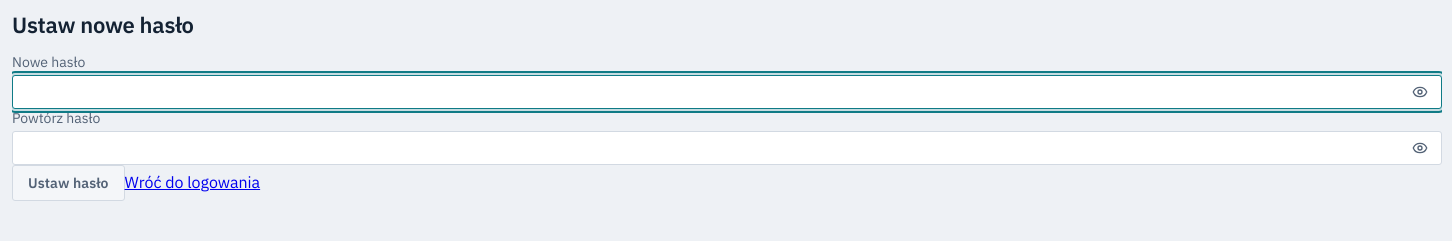
Scenario: ustawienie nowego hasła z linku › poprawne hasło — wysyła token i pokazuje sukces
The image size is (1452, 241).
Type "dlugiehaslo1" into the password field labelled "Nowe hasło".
click(727, 92); type("dlugiehaslo1")  # box [12,76,1442,110]
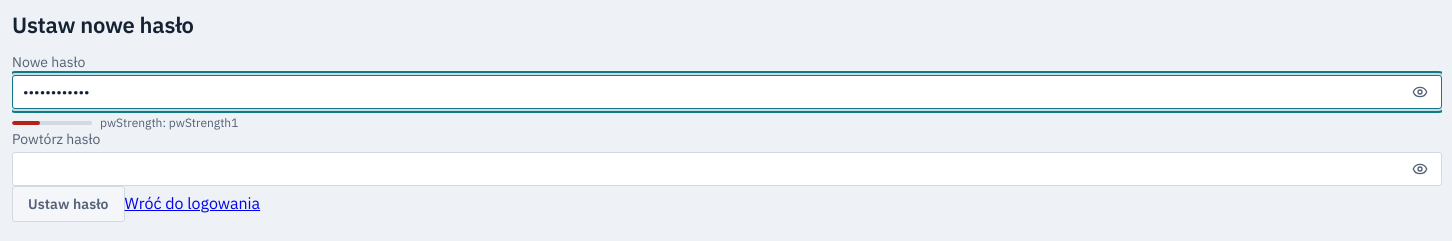
Type "dlugiehaslo1" into the password field labelled "Powtórz hasło".
click(727, 170); type("dlugiehaslo1")  # box [12,152,1442,186]
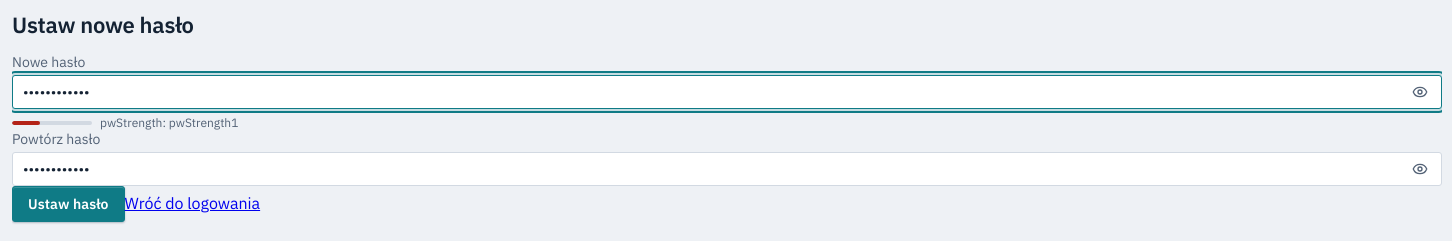
Click the button "Ustaw hasło".
click(68, 204)  # box [12,186,125,222]
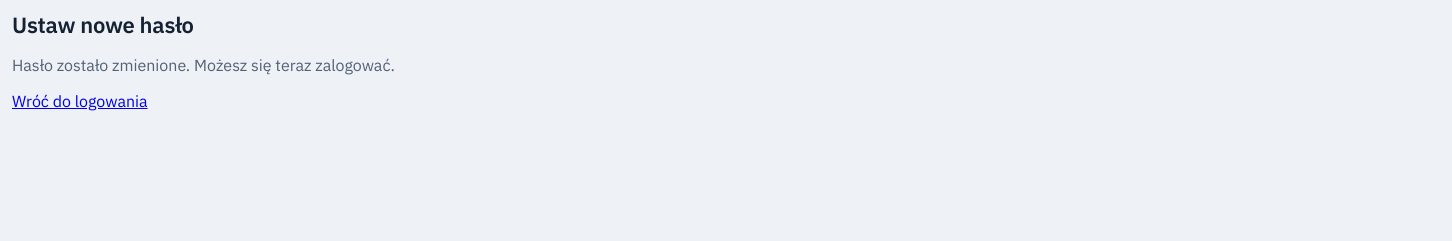
Expected: the text "Hasło zostało zmienione. Możesz się teraz zalogować." is shown, [12,55,395,75]
